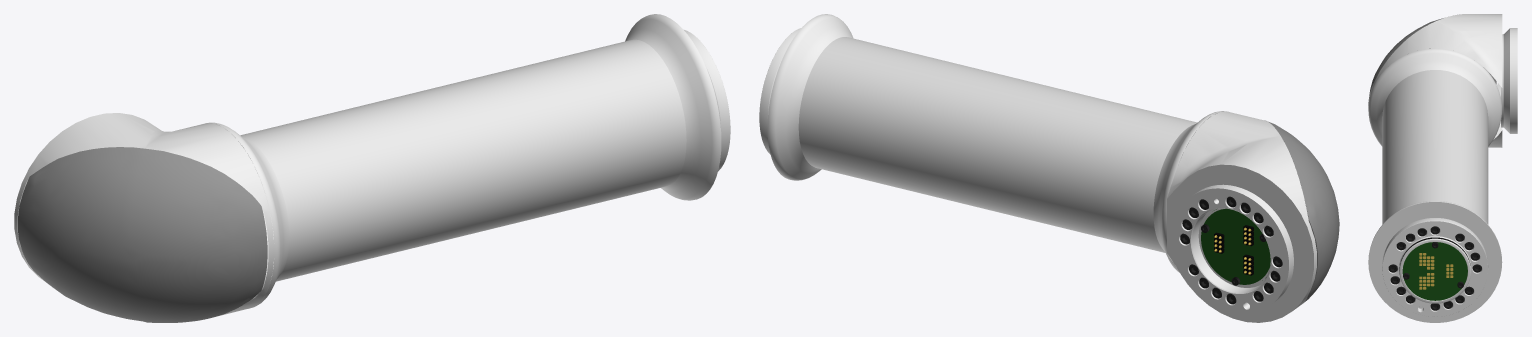
3 renders of one model, left to right at view 1: azimuth 30°, elevation 25°; view 2: azimuth 150°, elevation 25°; view 3: azimuth 270°, elevation 25°, orthographic. The views are drawn at different scales.
Parts seen in each view (by area): view 1: L86.001; view 2: L86.001; view 3: L86.001.
Part boxes in pixels (left/top/right/bottom): L86.001: left=14, top=14, right=730, bottom=322; L86.001: left=759, top=14, right=1339, bottom=322; L86.001: left=1368, top=14, right=1517, bottom=322.
Bounding box in the file's own units: 0.3339 × 0.0862 × 0.0961.
